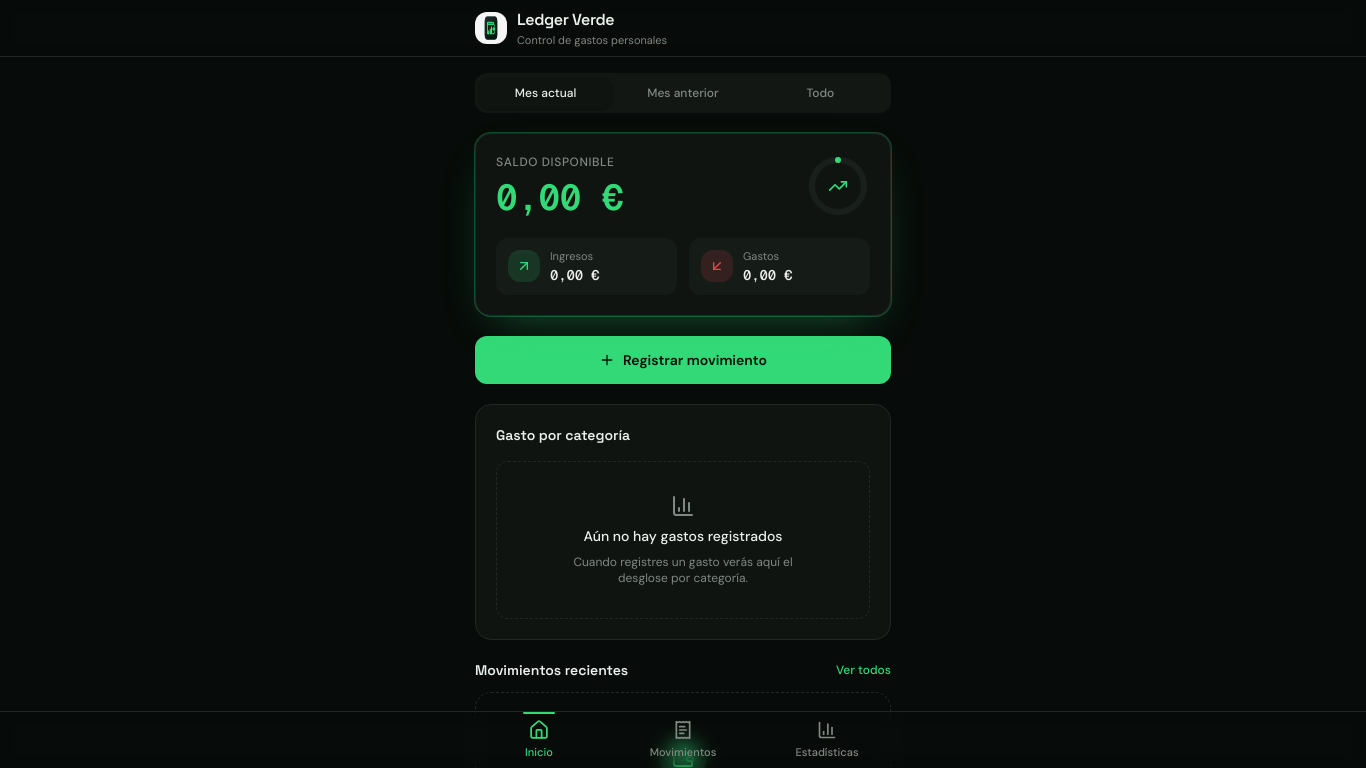
Test: Ledger Verde — flujo principal › valida que el monto sea positivo antes de guardar
The width and height of the screenshot is (1366, 768).
Expected: the text with test id "balance.value" is shown, [496,178,624,218]
Click the button with test id "transaction.add_button" at (683, 360), box [475,336,891,384]
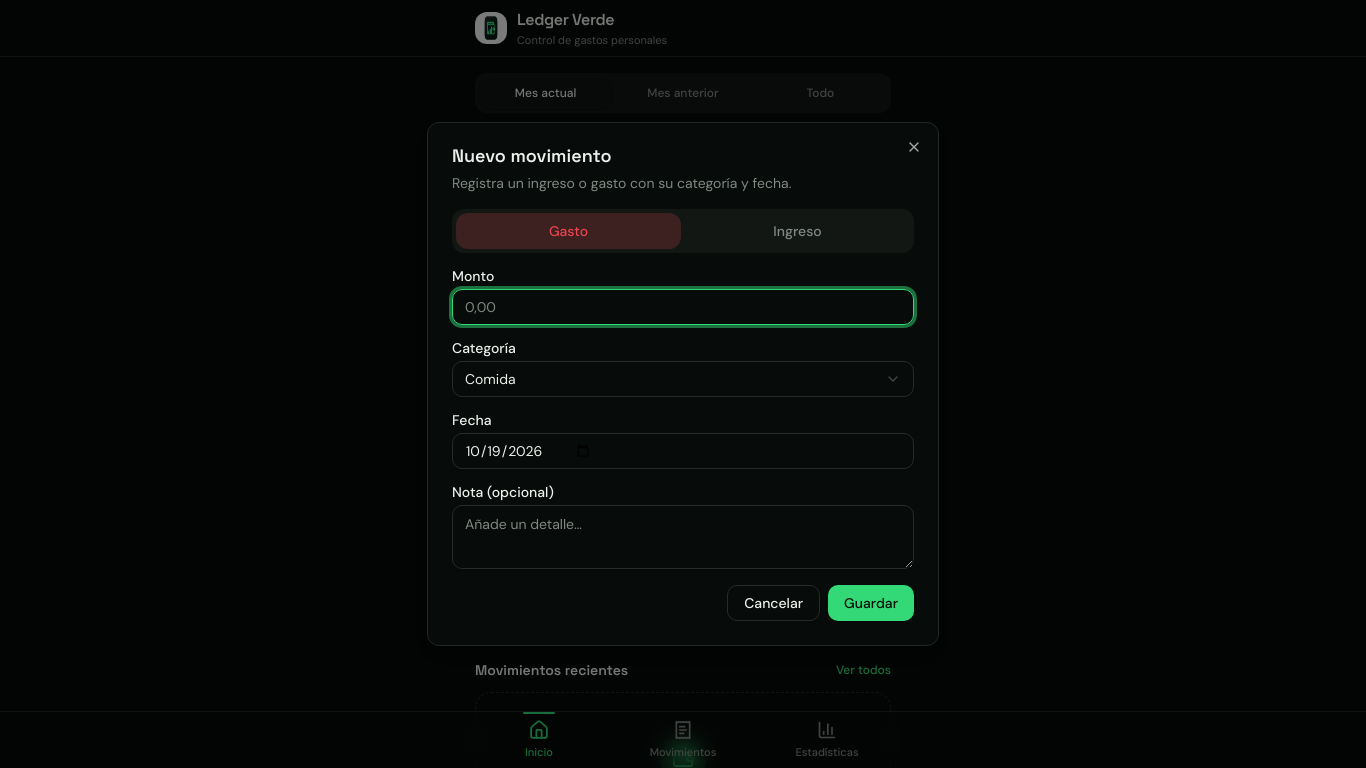
Type "0" into the field with test id "transaction.amount_input" at (683, 307), box [452,289,914,325]
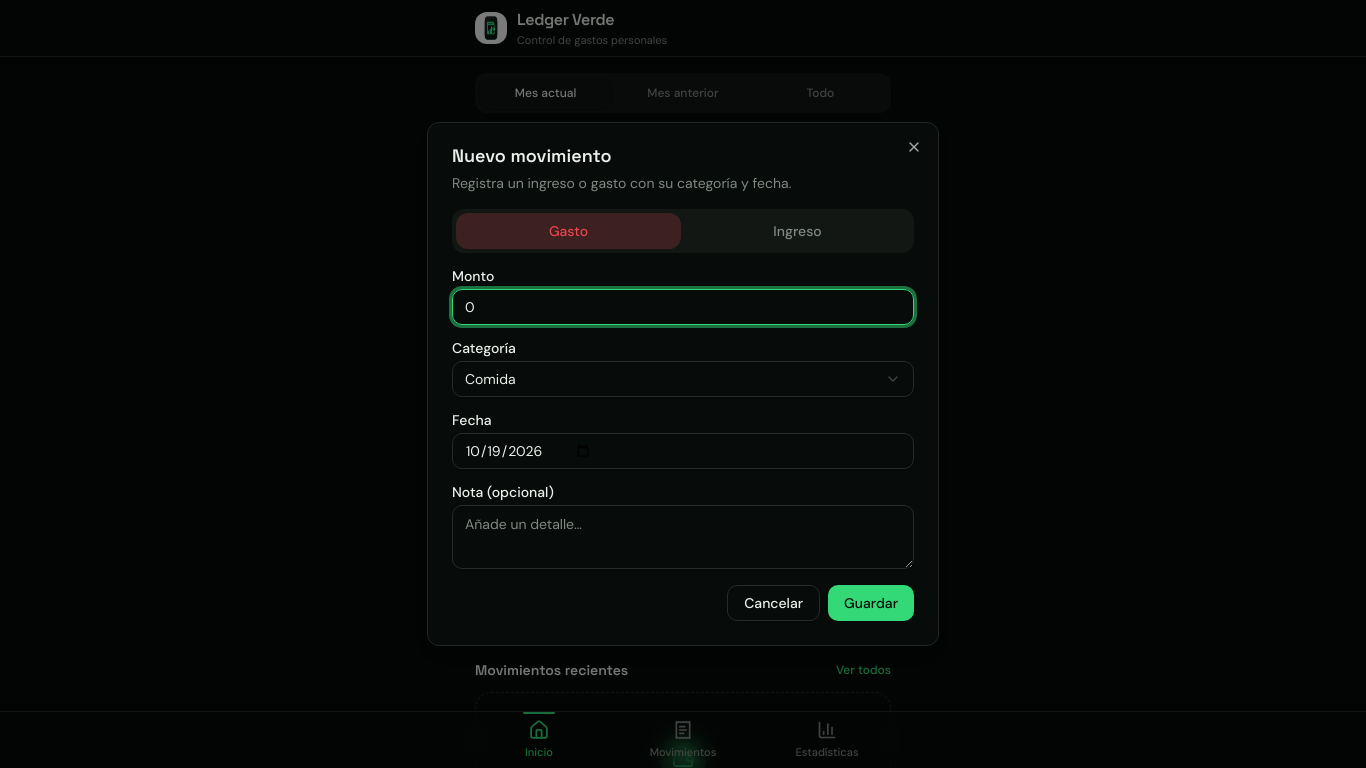
Click the button with test id "transaction.submit_button" at (871, 603), box [828,585,914,621]
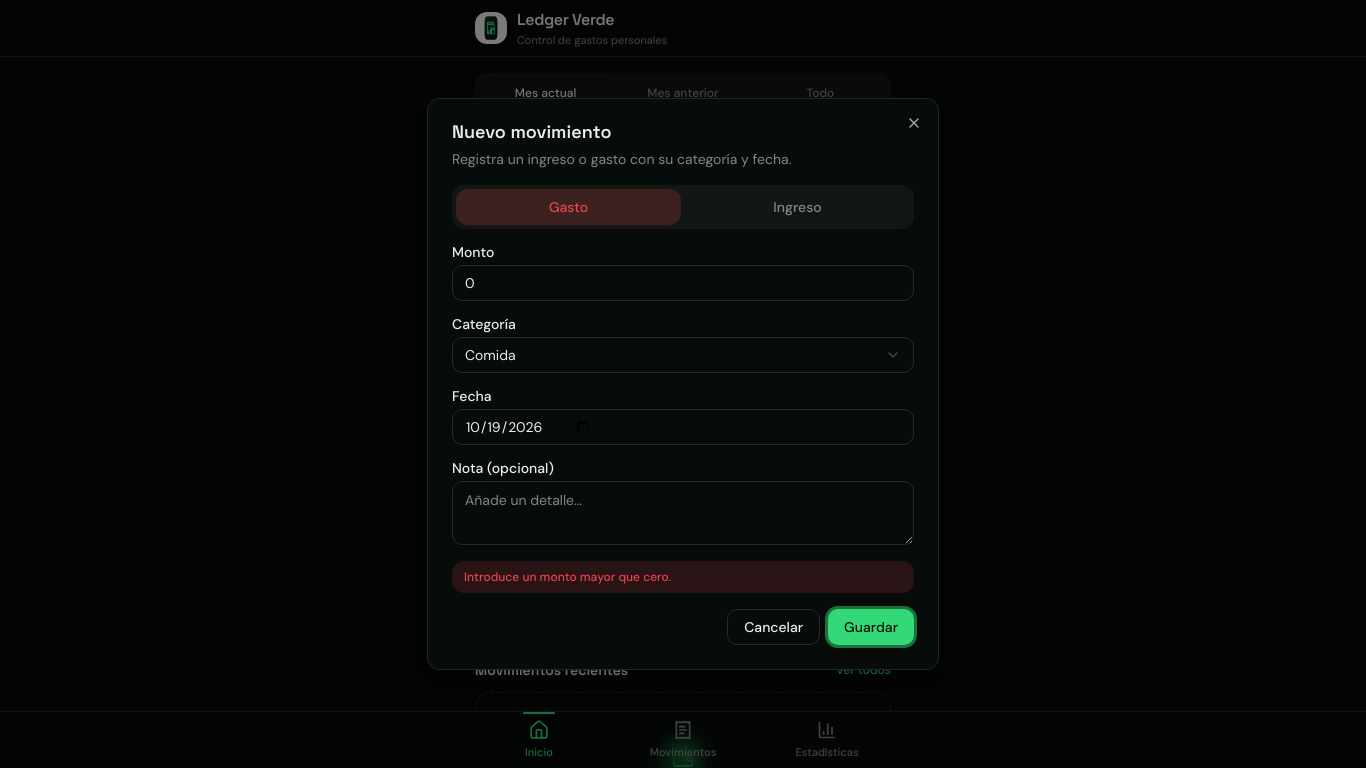
Now the message with test id "transaction.error_state" reads "Introduce un monto mayor que cero.", box [464,569,671,585]
